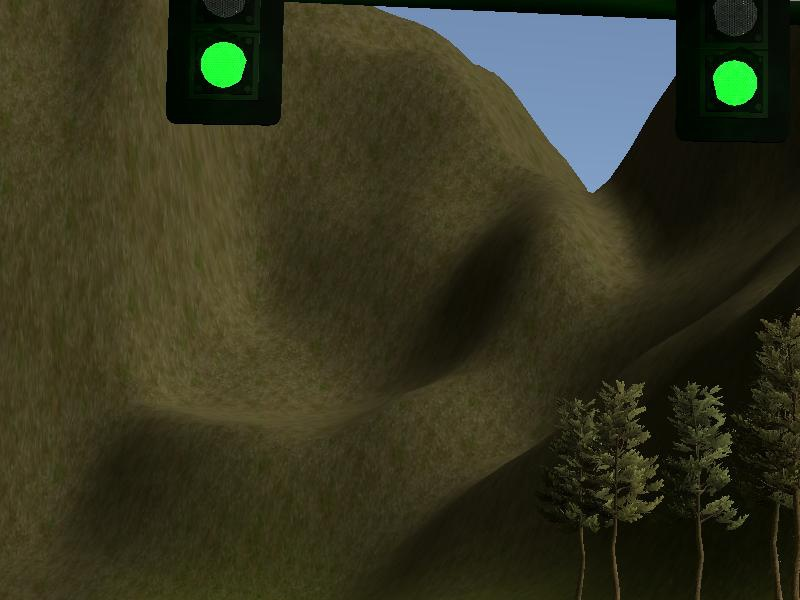Green: (671, 1, 791, 146), (164, 1, 284, 127)
